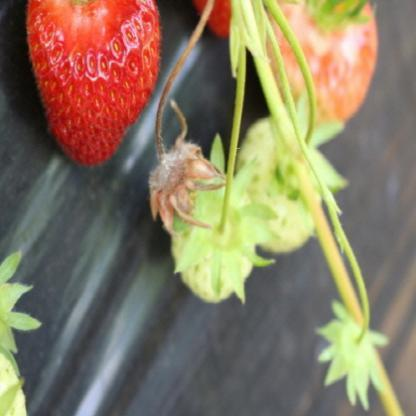Strawberry_Gray_Mold: (148, 100, 228, 236)
